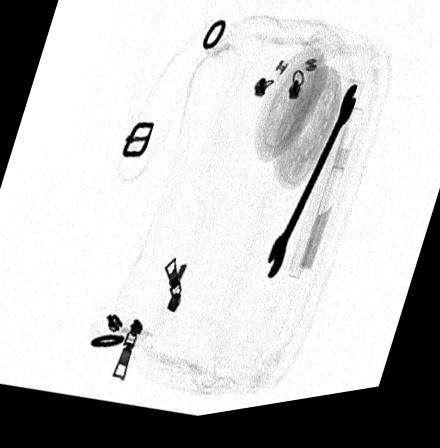Wrench: (265, 95, 357, 289)
